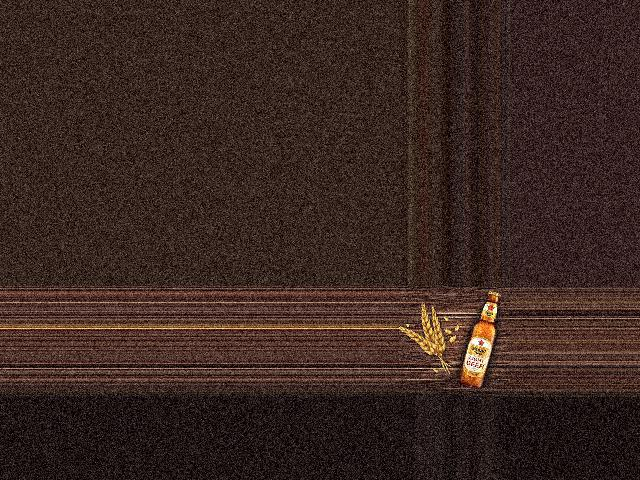beer: (459, 291, 501, 388)
